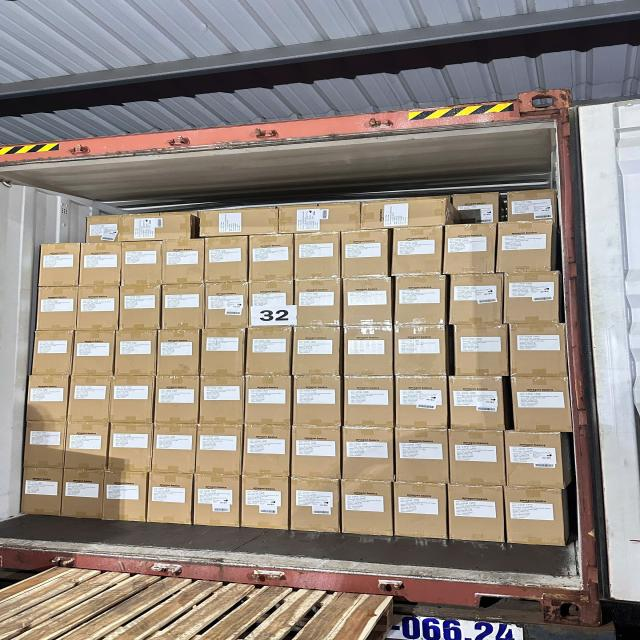Carton: (506, 486, 568, 546), (509, 378, 572, 436), (504, 432, 564, 490), (446, 484, 503, 541), (450, 432, 506, 488), (395, 430, 450, 487), (447, 378, 504, 433), (396, 481, 450, 538), (510, 326, 569, 378), (454, 325, 509, 380), (506, 271, 563, 324), (396, 373, 449, 429), (340, 478, 392, 535), (393, 326, 448, 378), (341, 426, 393, 481), (497, 220, 552, 271), (342, 375, 394, 428), (451, 274, 506, 324), (294, 424, 344, 479), (446, 226, 498, 278), (293, 374, 343, 428), (396, 274, 450, 324), (291, 477, 340, 532), (341, 327, 392, 379), (239, 475, 287, 530), (341, 277, 392, 327), (394, 229, 445, 278), (244, 426, 292, 478), (195, 474, 242, 527), (246, 374, 293, 426), (195, 425, 242, 477), (295, 328, 344, 377), (148, 473, 194, 525), (342, 230, 389, 280), (294, 232, 341, 282), (199, 376, 245, 426), (153, 425, 198, 476), (200, 329, 246, 378), (102, 471, 146, 522), (249, 282, 295, 330), (294, 278, 340, 326), (248, 328, 294, 376), (155, 376, 199, 426), (112, 378, 158, 425), (64, 420, 108, 469), (111, 422, 155, 471), (205, 280, 249, 328), (252, 236, 296, 284), (205, 238, 249, 286), (157, 329, 200, 378), (61, 468, 102, 519), (160, 283, 204, 329), (26, 374, 68, 422), (68, 377, 110, 424), (23, 423, 65, 470), (116, 330, 158, 377), (162, 238, 204, 284), (30, 330, 72, 376), (80, 242, 122, 287), (77, 285, 119, 330), (73, 330, 114, 376), (21, 468, 60, 516), (121, 284, 162, 329), (122, 240, 162, 286), (38, 287, 78, 333), (40, 244, 80, 290)
